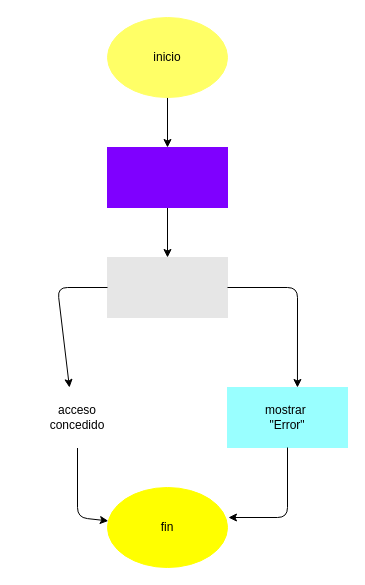
The diagram is 365 pixels wide and 585 high, and some of its shapes have lost their labels. Here are the shapes that lost their labels. From the top down, the centre of each, then its label:
point (167, 177): pedir contraseña ( input )
point (167, 287): ¿ contraseña = " python123"
